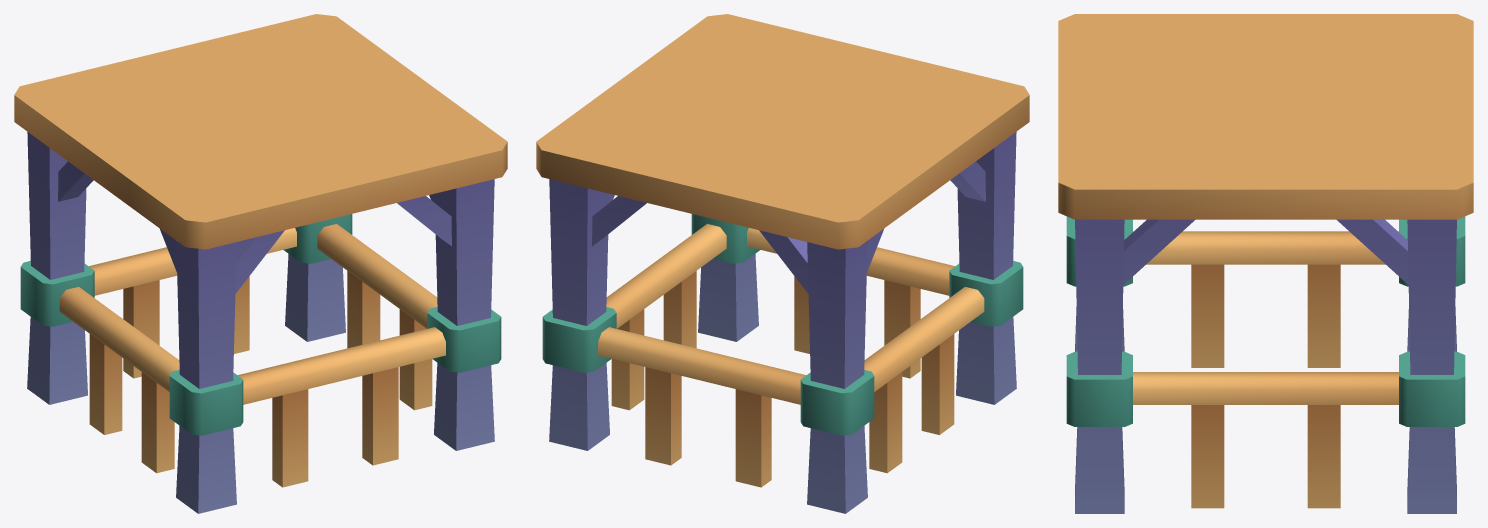
Rendered from structure-fence-sides.fbx.
3 views of the same model, side by side, from view 1: azimuth 30°, elevation 25°; view 2: azimuth 150°, elevation 25°; view 3: azimuth 270°, elevation 25° (orthographic). The views are drawn at different scales.
Parts seen in each view (by area): view 1: structure-fence-sides, Group; view 2: structure-fence-sides, Group; view 3: structure-fence-sides.
Boxes of the visible parts, x1,y1,x2,y2 form: structure-fence-sides: (14,14,507,513); Group: (89,228,445,487); structure-fence-sides: (536,14,1029,513); Group: (598,228,954,487); structure-fence-sides: (1058,14,1473,513).
Bounding box in the file's own units: 250 × 220 × 250.
